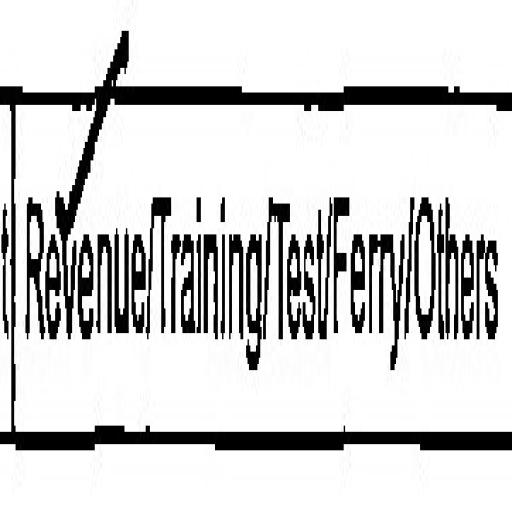check: (11, 0, 151, 510)
